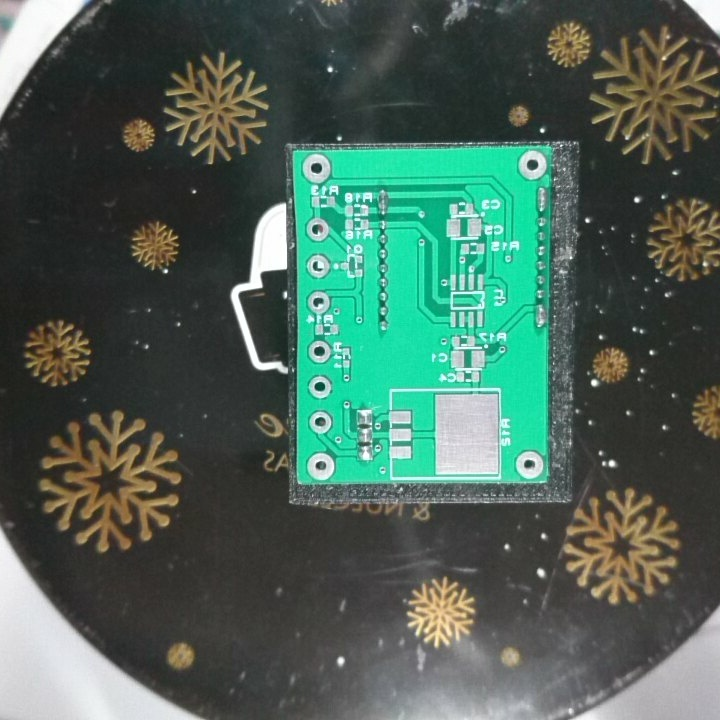F: (514, 147, 549, 181), (300, 151, 334, 186), (512, 449, 546, 480), (305, 450, 337, 482), (306, 373, 334, 402), (304, 252, 331, 280), (307, 408, 334, 436), (304, 217, 329, 243), (305, 290, 331, 315), (306, 338, 331, 363)
P: (530, 300, 549, 332), (534, 183, 550, 217), (375, 186, 390, 218)
